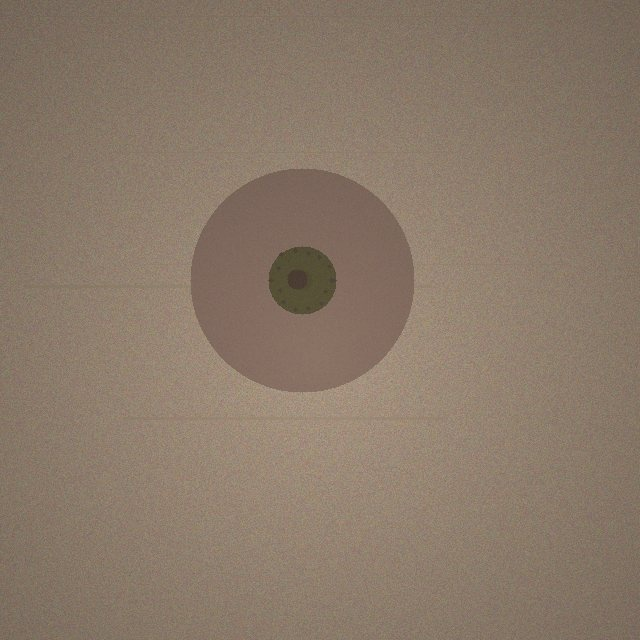cold_weld: (190, 168, 414, 392)
